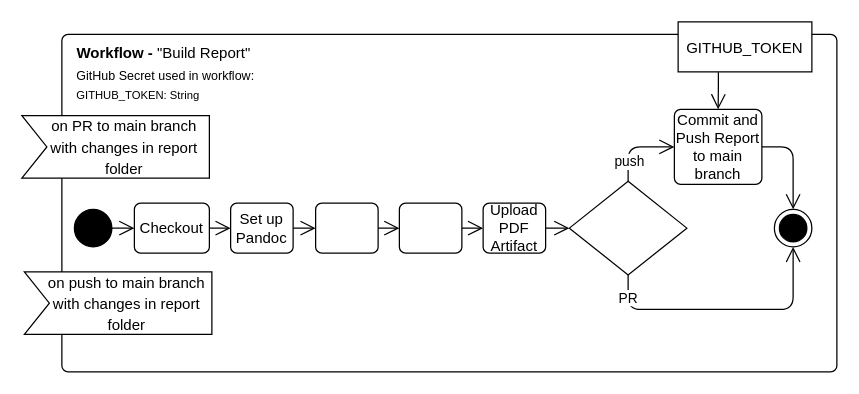
This 859x394 diagram has some shape labels left out. The centre of each missing label's shape, as x and y in pixels:
Run Makefile: point 430,227
Set up TinyTex: point 346,227
workflow triggered by: point 627,227
